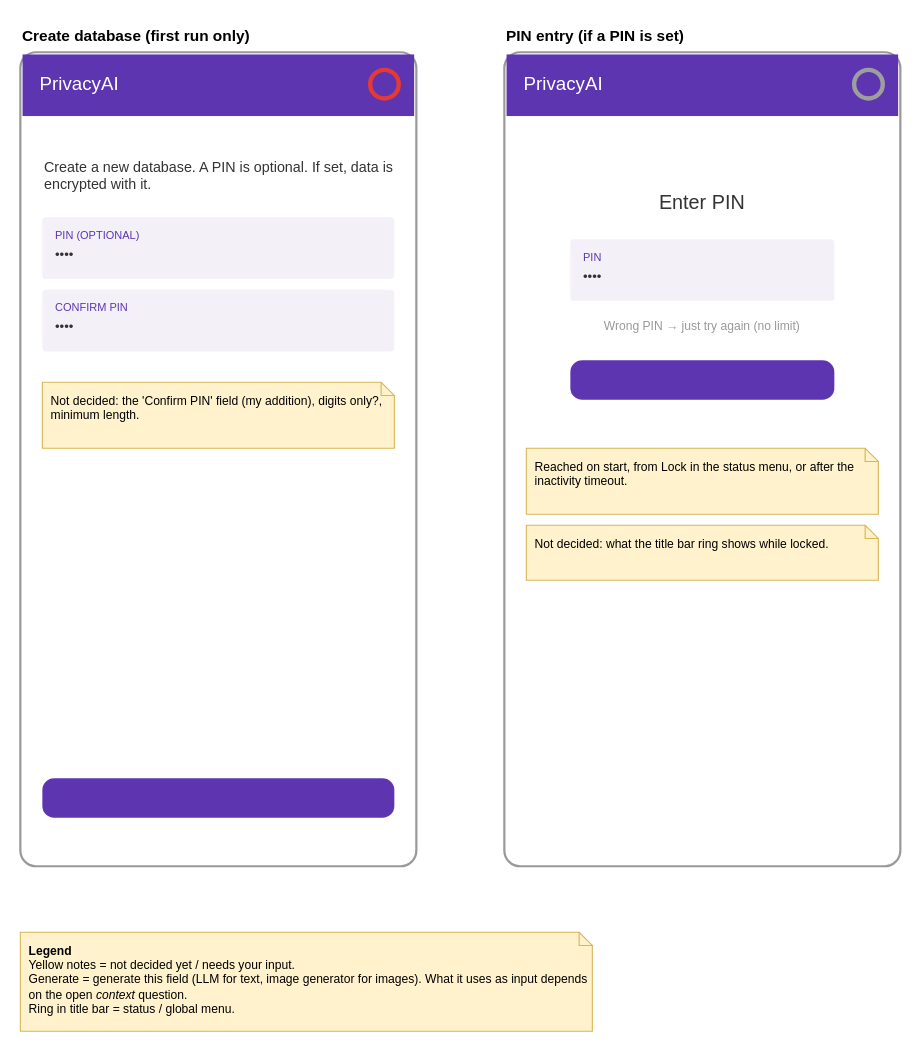
This 920x1051 diagram has some shape labels left out. Here are the shapes that lost their labels. From the top down, the centre of each, then its label:
(x=702, y=379): Unlock
(x=218, y=797): Create database
